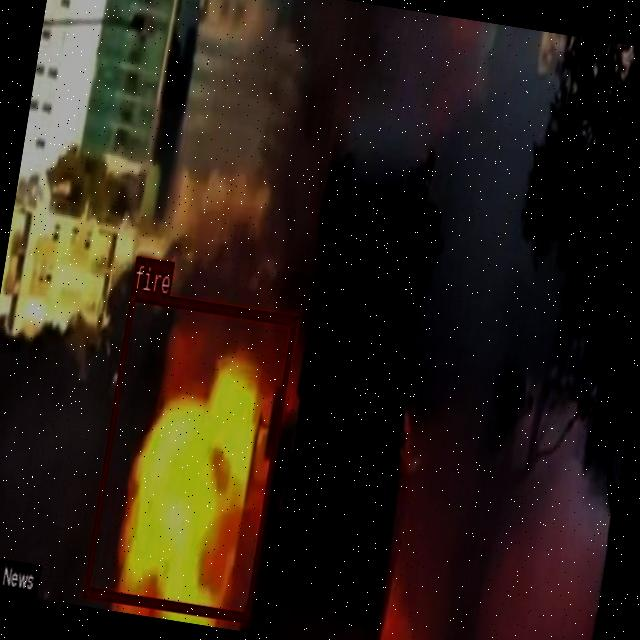fire: (83, 290, 297, 620)
